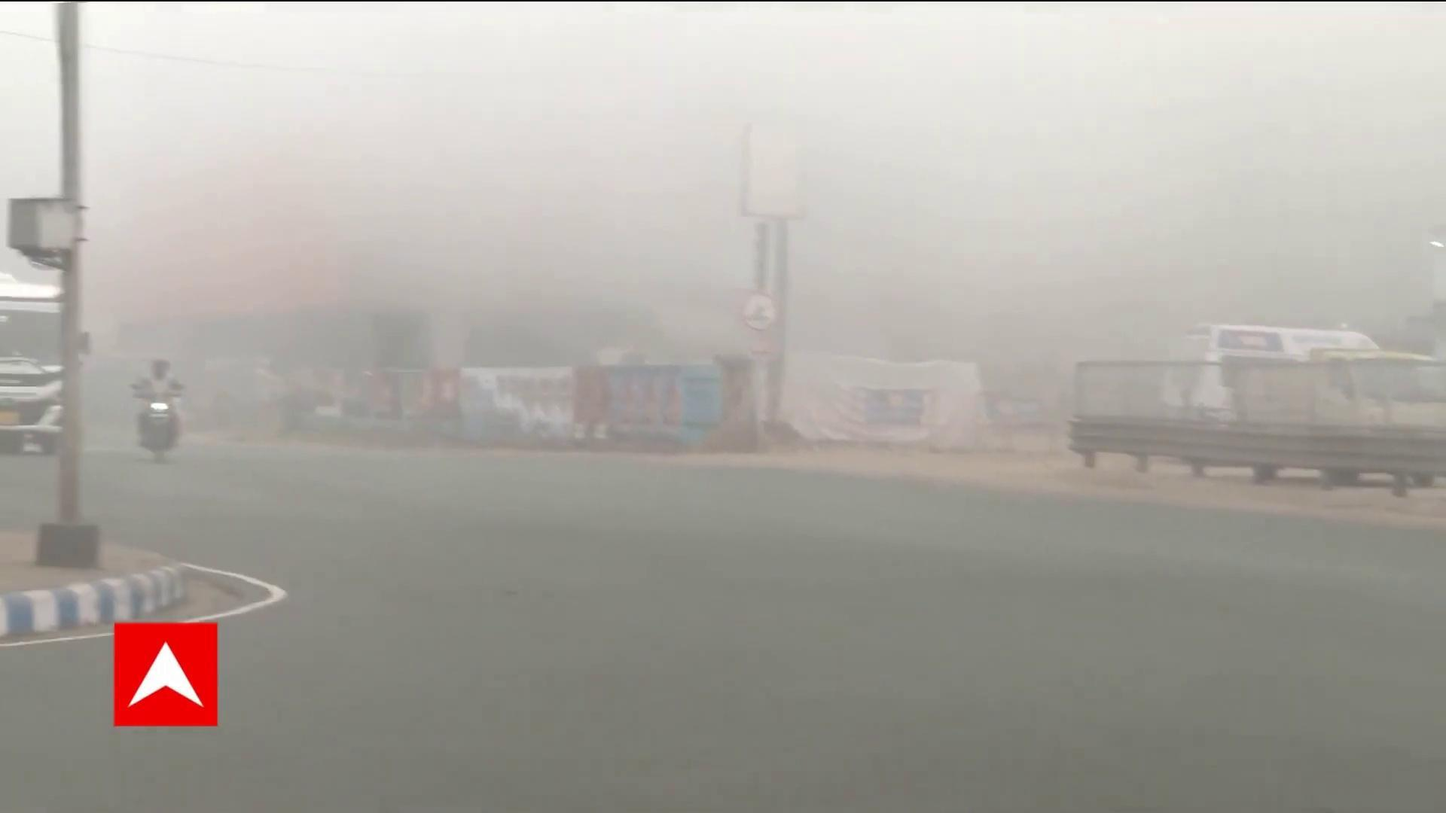Bike: (129, 357, 189, 465)
